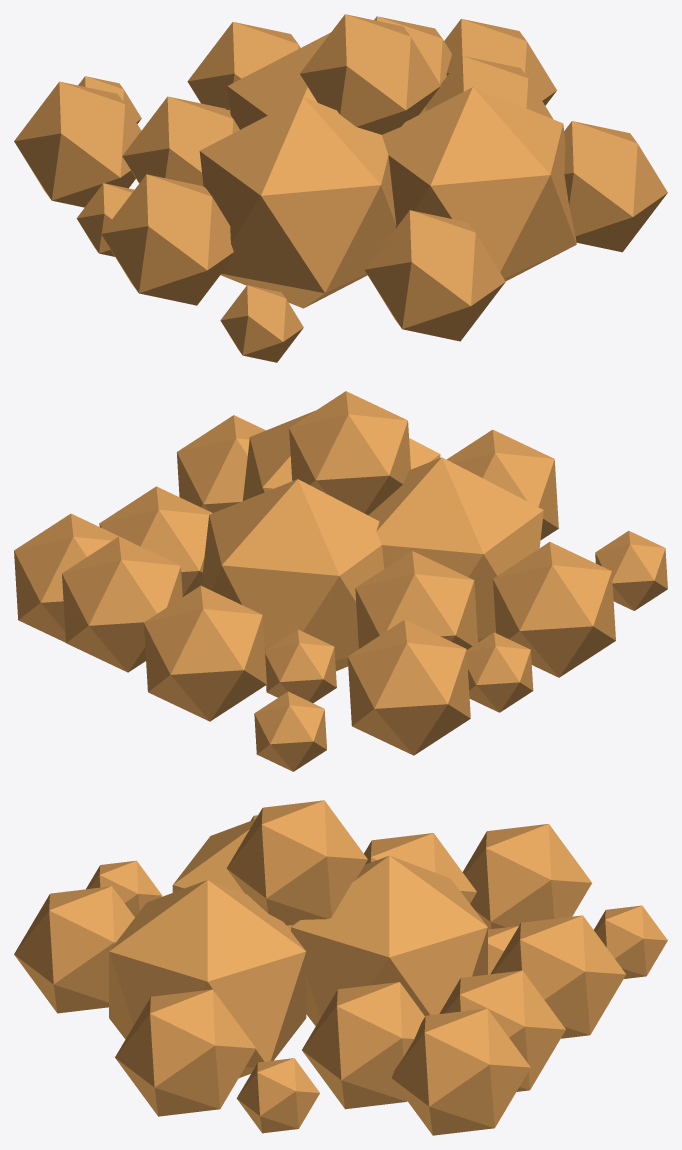
Rendered from copper.fbx.
The picture shows the model from 3 angles, top to bottom: view 1: azimuth 30°, elevation 25°; view 2: azimuth 150°, elevation 25°; view 3: azimuth 270°, elevation 25°; orthographic projection.
Parts seen in each view (by area): view 1: CopperMesh; view 2: CopperMesh; view 3: CopperMesh.
Boxes of the visible parts, x1=… form: CopperMesh: x1=14, y1=14, x2=667, y2=362; CopperMesh: x1=14, y1=391, x2=667, y2=771; CopperMesh: x1=14, y1=800, x2=667, y2=1135.
Size of the model in its own units: 63.61 by 30.68 by 70.97.
